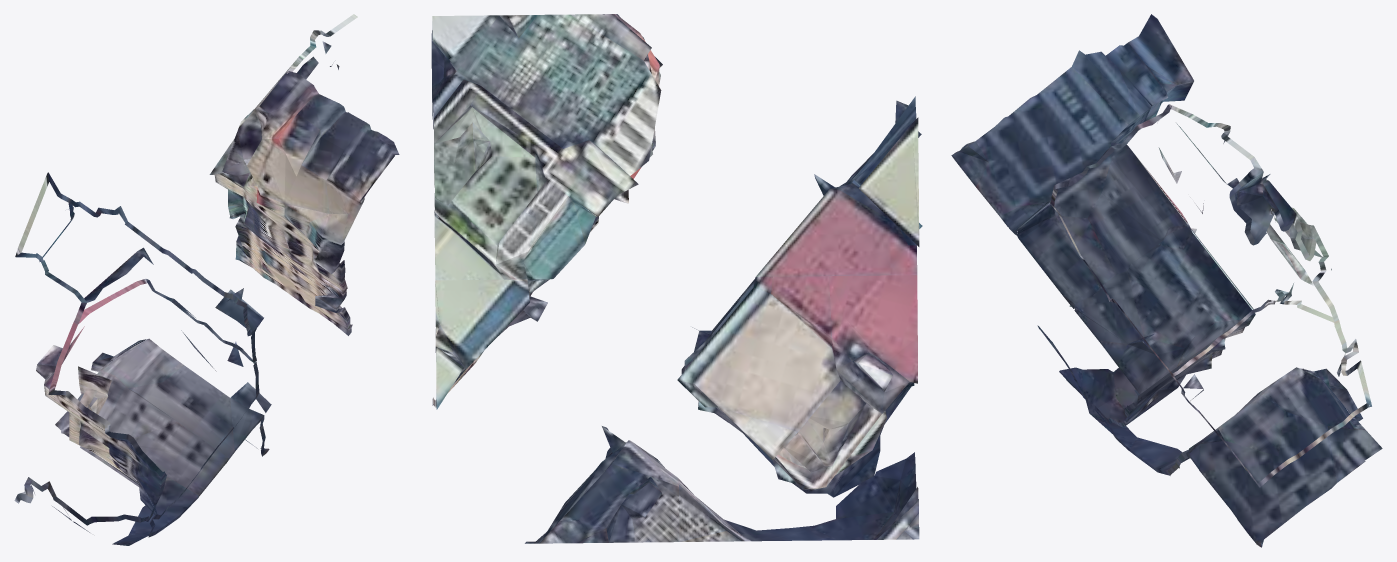
3 renders of one model, left to right at view 1: azimuth 30°, elevation 25°; view 2: azimuth 150°, elevation 25°; view 3: azimuth 270°, elevation 25°, orthographic. The views are drawn at different scales.
Size of the model in its own units: 38.38 by 40.51 by 36.16.
Materials: 2 (2 with a texture image).
